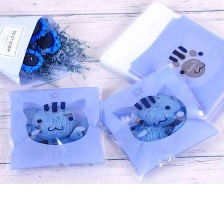snack: (86, 58, 223, 183), (1, 79, 113, 173)
